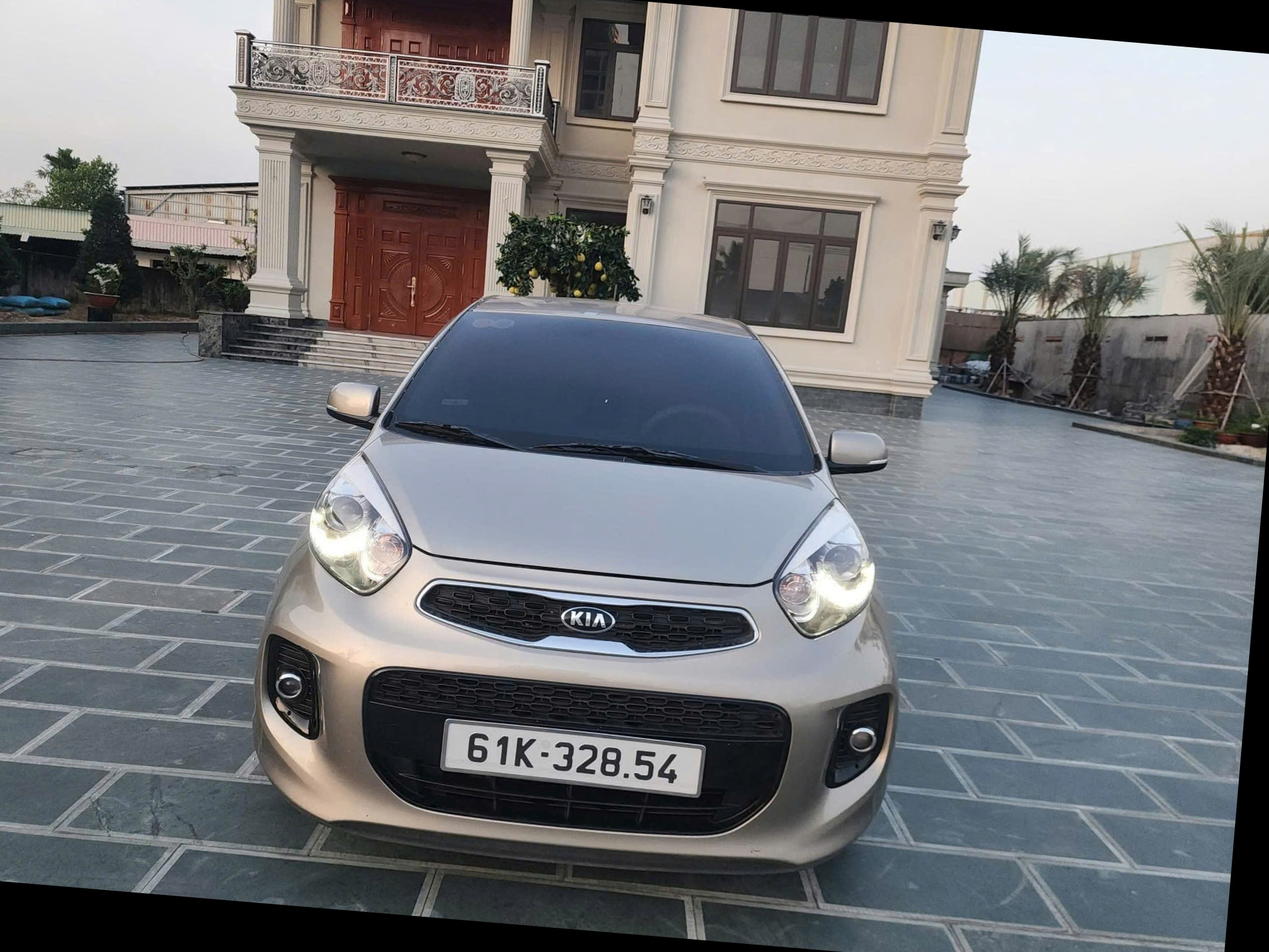Bien-so: (555, 705, 804, 776)
